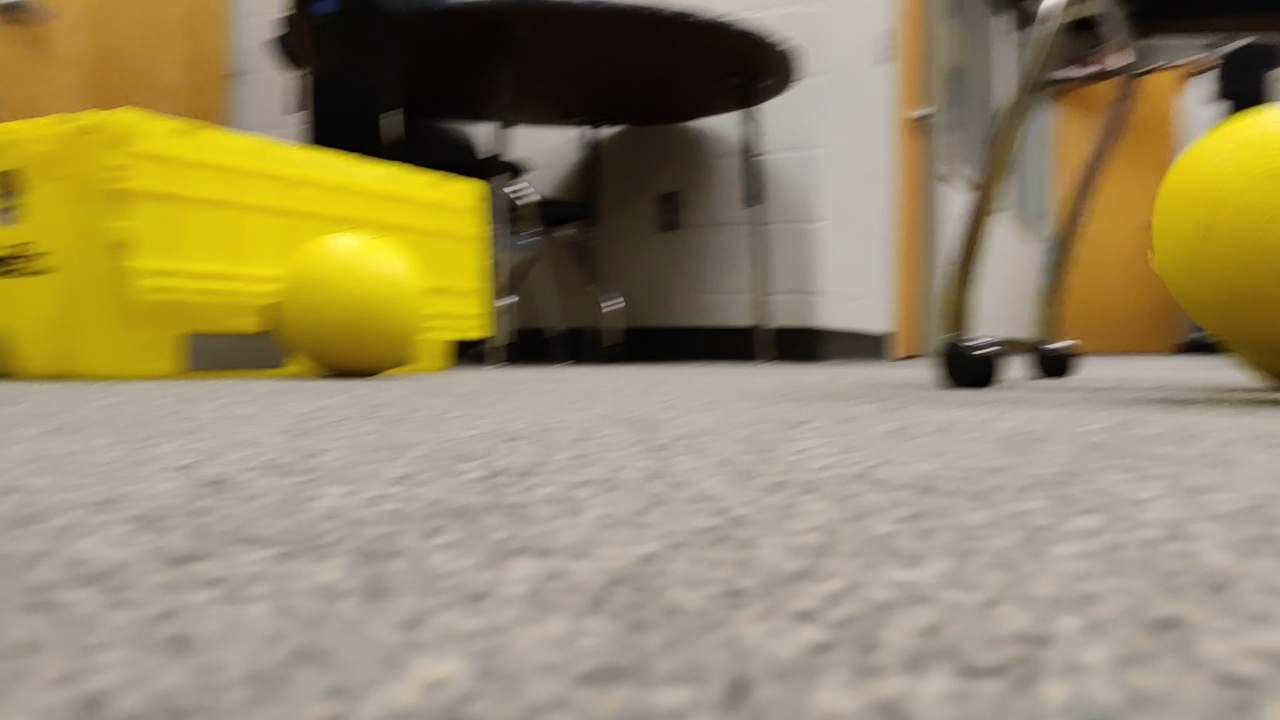Ball: (1164, 101, 1280, 356), (288, 227, 418, 367)
